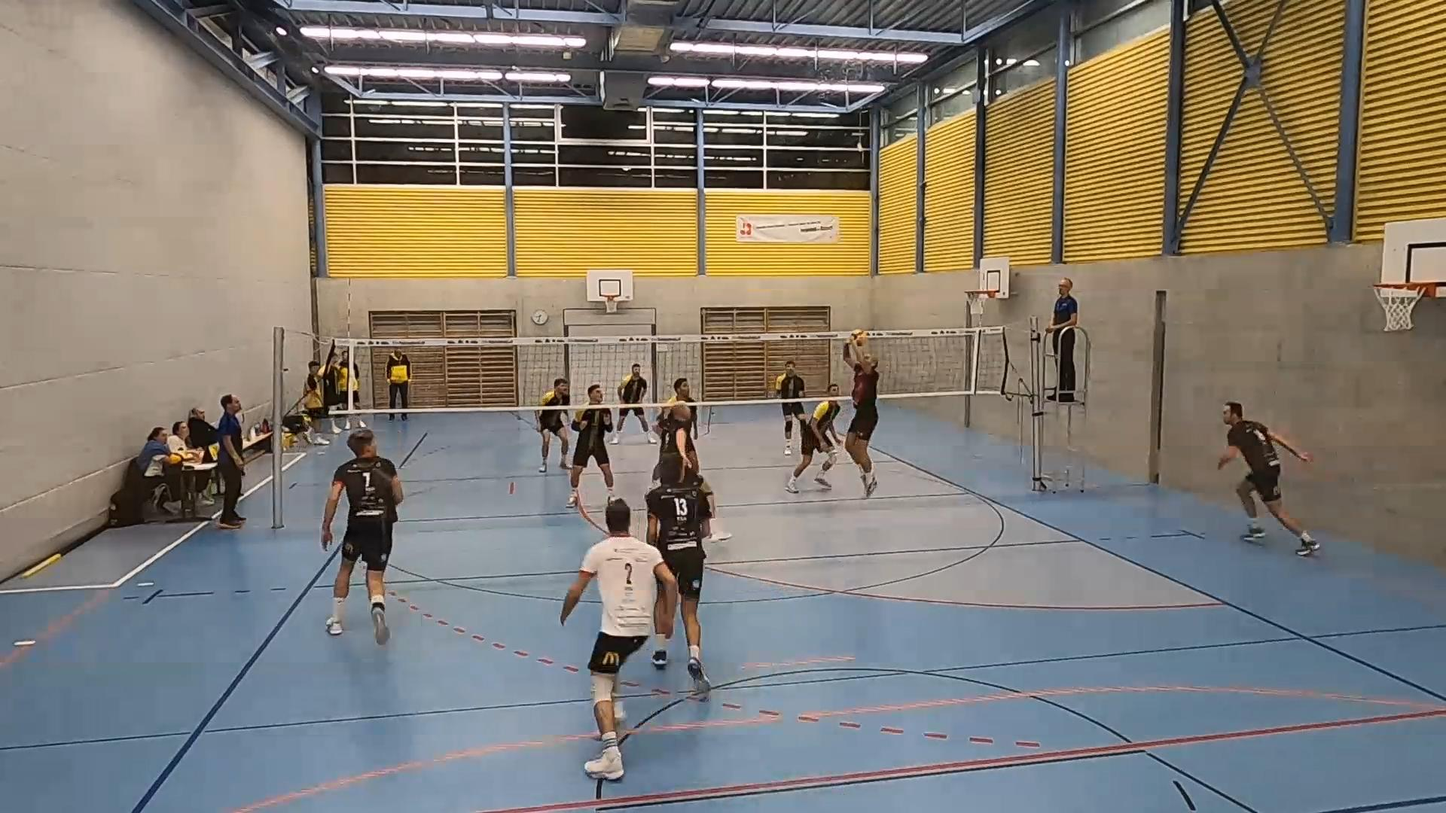Player: (560, 500, 677, 780), (322, 430, 403, 644), (646, 455, 711, 698), (1218, 402, 1319, 556), (567, 384, 615, 507), (786, 384, 840, 493), (652, 378, 700, 484), (657, 378, 699, 470), (612, 364, 656, 443), (536, 377, 569, 472), (775, 361, 805, 455)
Set: (841, 343, 888, 489)
ball: (852, 332, 871, 343)
